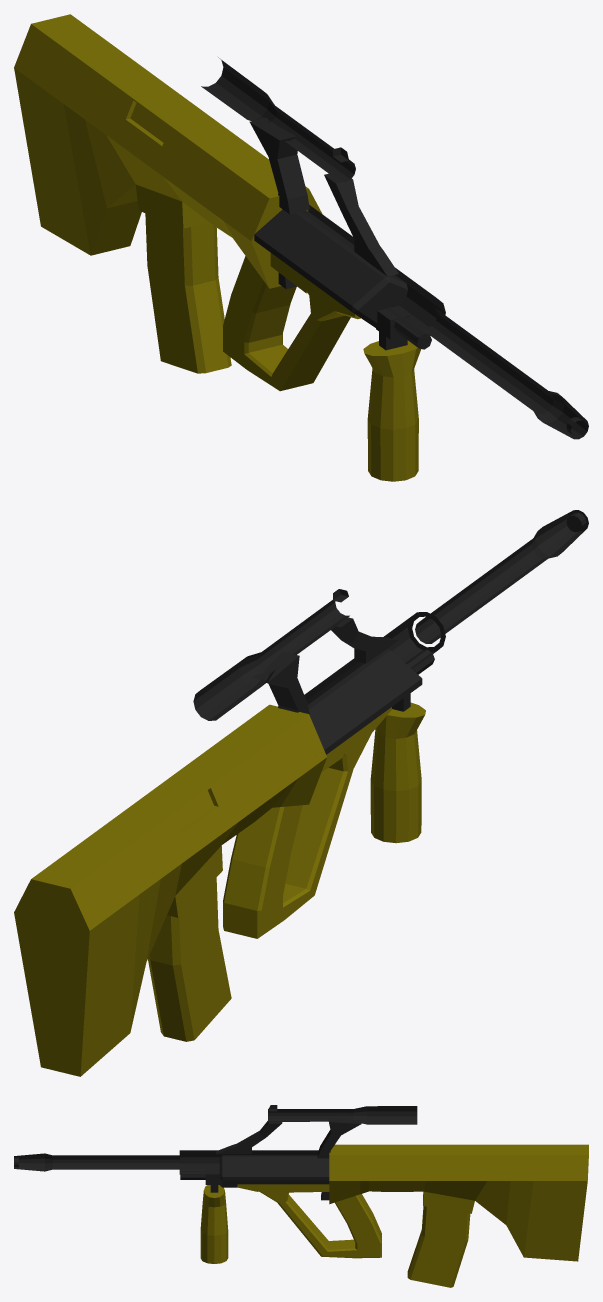
Rendered from AssaultRifle_03.fbx.
3 renders of one model, top to bottom at view 1: azimuth 30°, elevation 25°; view 2: azimuth 150°, elevation 25°; view 3: azimuth 270°, elevation 25°, orthographic. The views are drawn at different scales.
Visible parts, largest first — view 1: AssaultRIfle_03; view 2: AssaultRIfle_03; view 3: AssaultRIfle_03.
Boxes of the visible parts, box(x1,y1,x2,y2) form: AssaultRIfle_03: box(14, 14, 588, 481); AssaultRIfle_03: box(14, 510, 588, 1076); AssaultRIfle_03: box(14, 1105, 588, 1287).
Size of the model in its own units: 33.33 by 137 by 402.
